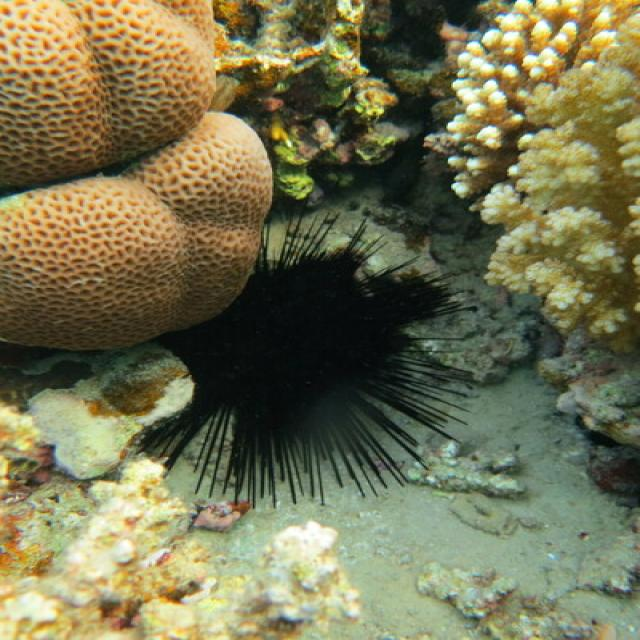Urchin: (133, 219, 477, 507)
